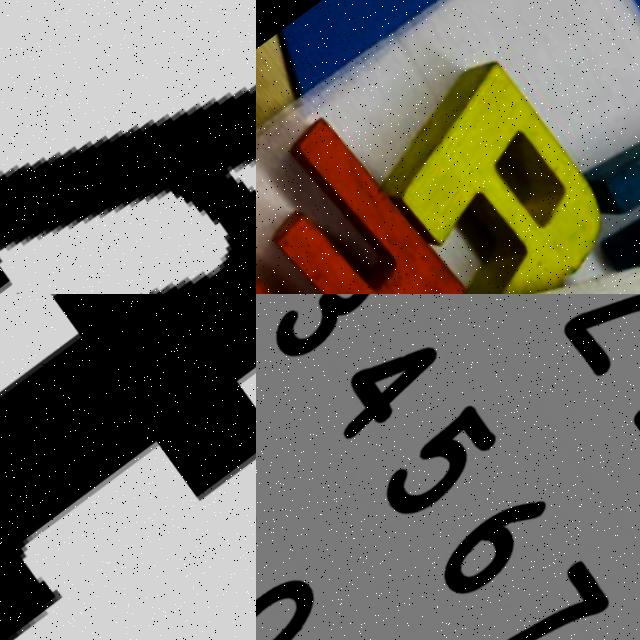0: (256, 535, 375, 640)
3: (256, 294, 410, 378)
4: (296, 302, 477, 465)
5: (353, 370, 547, 544)
6: (412, 448, 603, 620)
7: (473, 535, 640, 640)
9: (256, 452, 324, 633)
H: (0, 0, 256, 294)
M: (568, 97, 640, 294)
R: (337, 34, 640, 294)
T: (0, 294, 256, 640)
